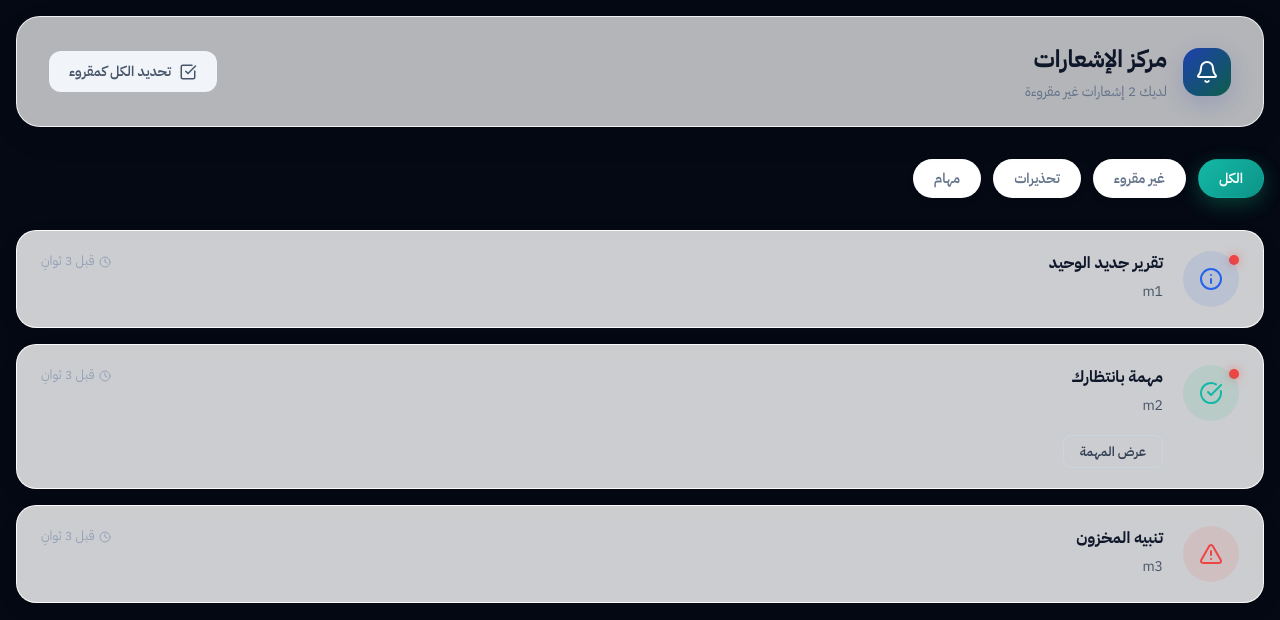
Test: Notifications page › renders API data, filters it, and 'mark all read' calls the API
Expected: the heading "تقرير جديد الوحيد" is shown, [1049,251,1163,275]
Expected: the text "لديك 2 إشعارات غير مقروءة" is shown, [1025,81,1167,102]
Click the button "تحذيرات".
click(1037, 178)  # box [993,159,1081,198]
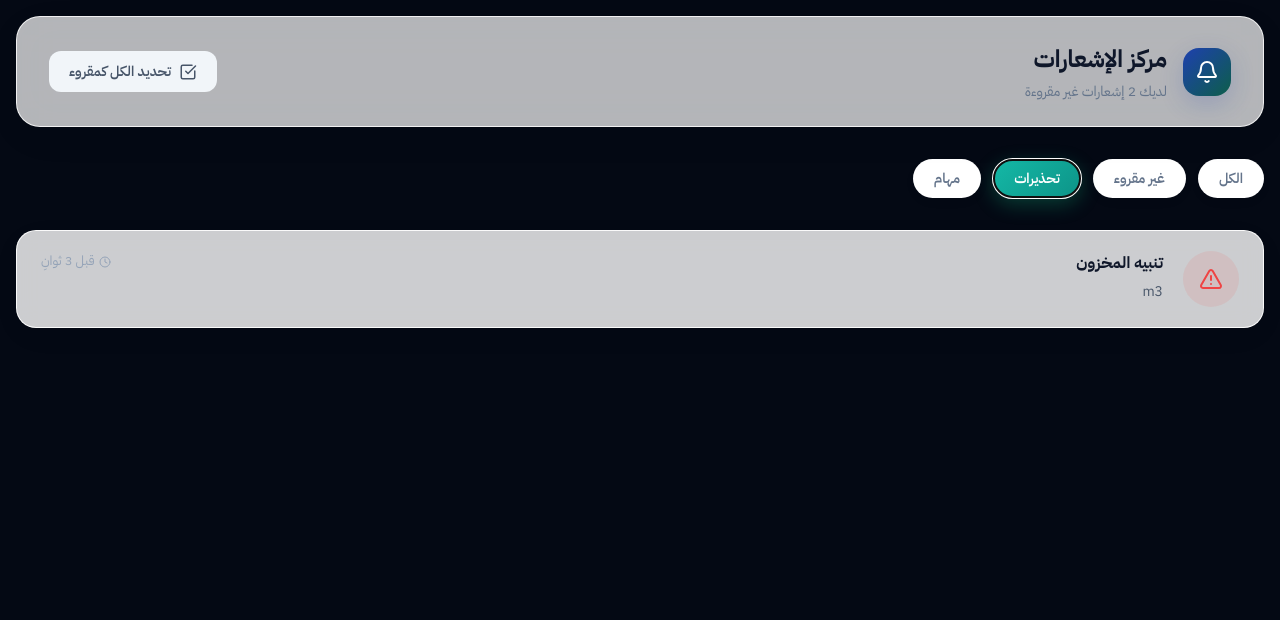
Expected: the heading "تنبيه المخزون" is shown, [1076,251,1163,275]
Result: the button "تقرير جديد الوحيد" is gone
Click the button "تحديد الكل كمقروء".
click(133, 72)  # box [49,51,217,92]
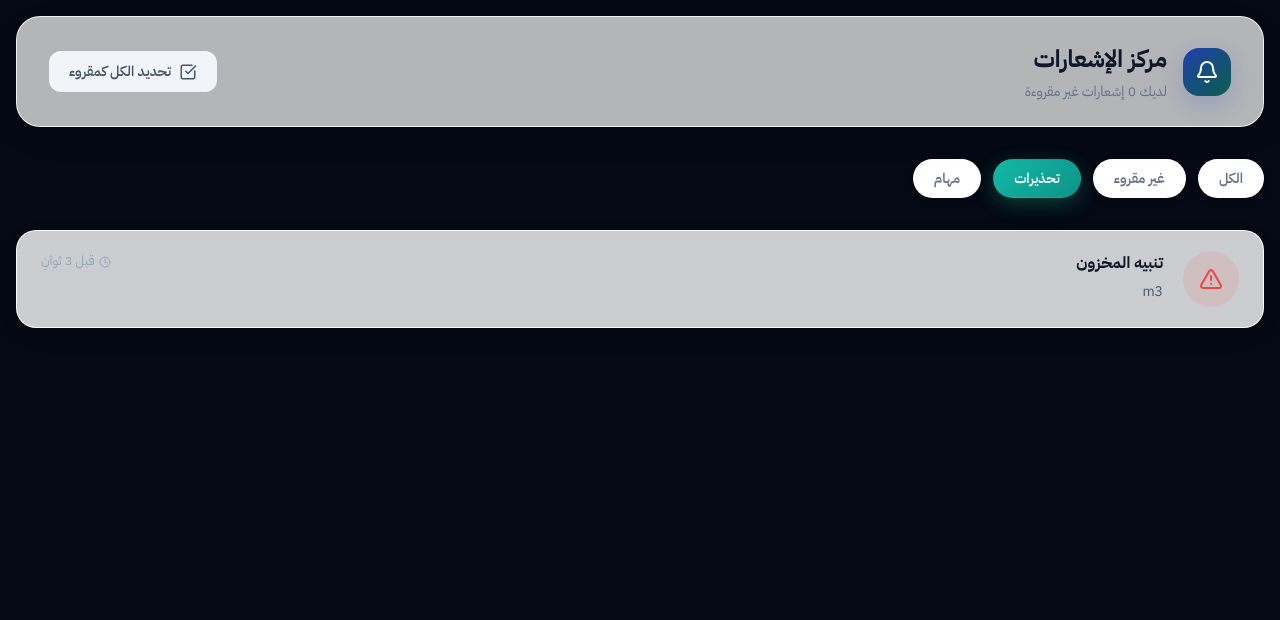
Result: the text "لديك 0 إشعارات غير مقروءة" is shown at [1025,81,1167,102]
